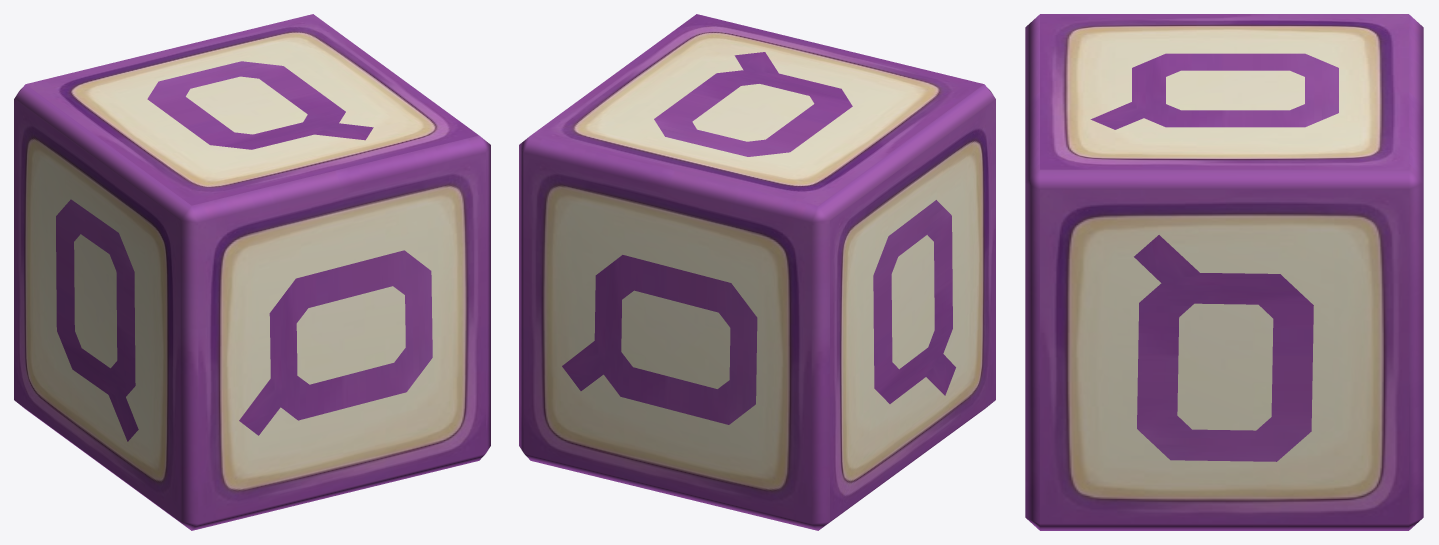
File: CubeQ.glb
3 views of the same model, side by side, from view 1: azimuth 30°, elevation 25°; view 2: azimuth 150°, elevation 25°; view 3: azimuth 270°, elevation 25° (orthographic). The views are drawn at different scales.
Visible parts, largest first — view 1: CubeQ; view 2: CubeQ; view 3: CubeQ.
Boxes of the visible parts, left/top/right/bottom form: CubeQ: left=14, top=14, right=490, bottom=530; CubeQ: left=519, top=14, right=995, bottom=530; CubeQ: left=1025, top=14, right=1423, bottom=530.
Size of what is drawn, in the model's own units: 0.513 by 0.513 by 0.513.
1 material, 1 textured.
